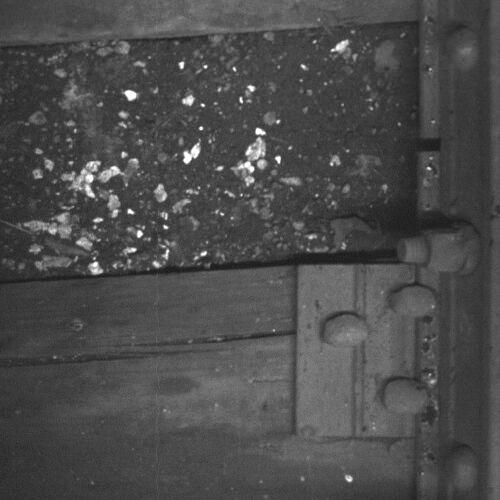do: (292, 263, 446, 439)
tie_wood: (1, 266, 417, 500)
wood_crack: (1, 328, 298, 373)
